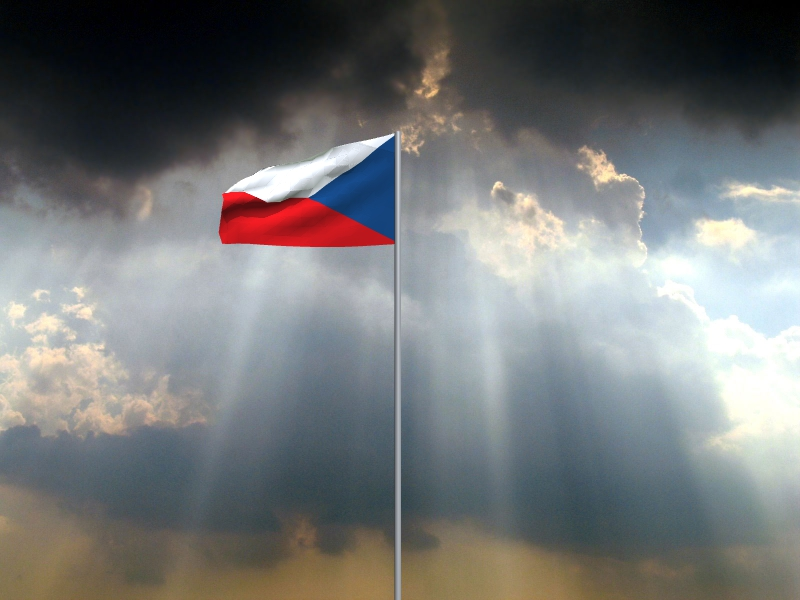cz: (218, 134, 396, 249)
